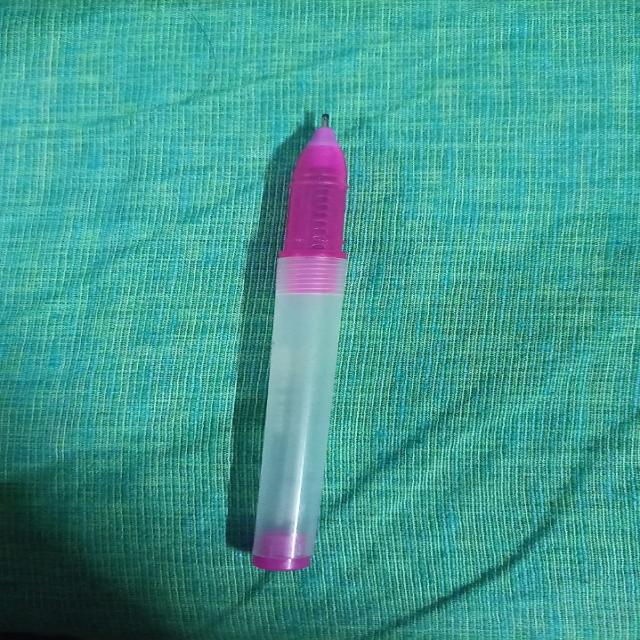pen: (220, 106, 377, 577)
